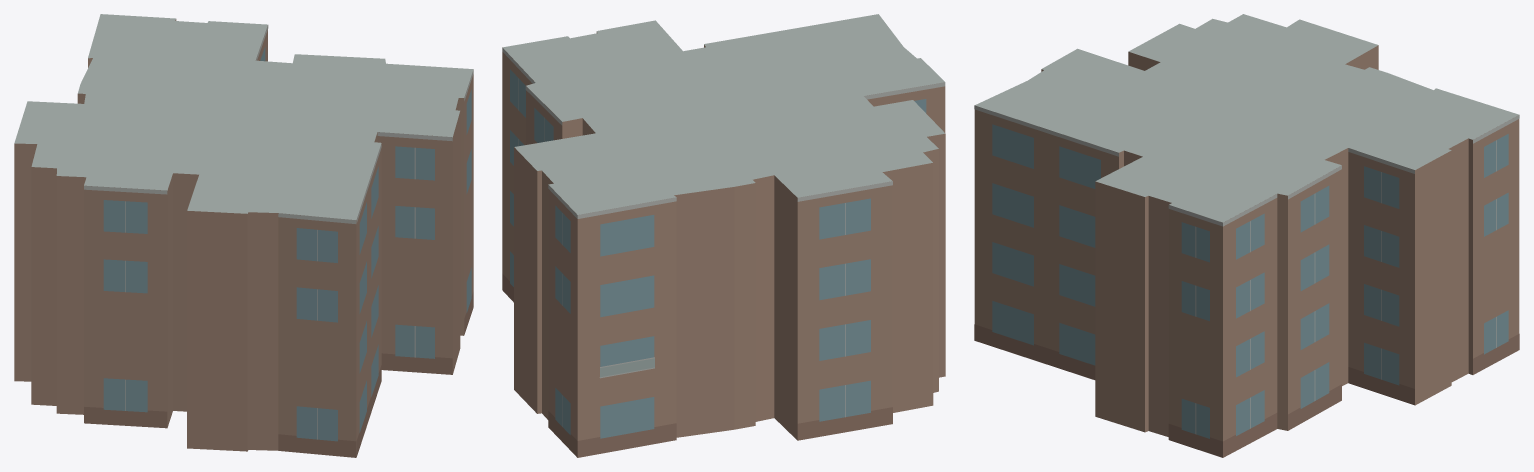
Rendered from survey-upis-32470441.glb.
3 views of the same model, side by side, from view 1: azimuth 30°, elevation 25°; view 2: azimuth 150°, elevation 25°; view 3: azimuth 270°, elevation 25° (orthographic). The views are drawn at different scales.
Visible parts, largest first — view 1: survey-upis-32470441.tmp; view 2: survey-upis-32470441.tmp; view 3: survey-upis-32470441.tmp.
Part boxes in pixels (x1=…): survey-upis-32470441.tmp: x1=14, y1=14, x2=473, y2=457; survey-upis-32470441.tmp: x1=502, y1=14, x2=945, y2=457; survey-upis-32470441.tmp: x1=974, y1=14, x2=1519, y2=457.
Size of the model in its own units: 27.37 by 14.39 by 30.21.
